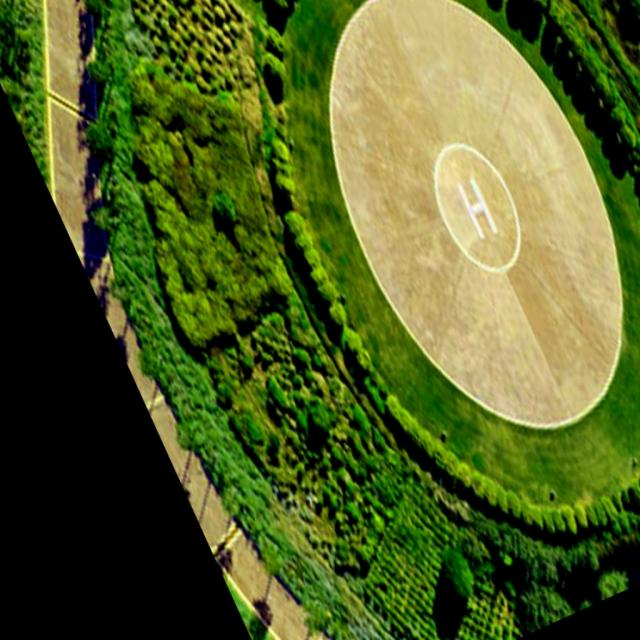helipad: (428, 137, 524, 275)
